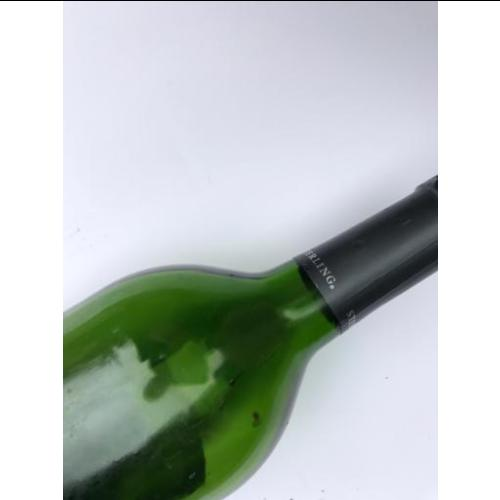glass: (65, 177, 437, 500)
